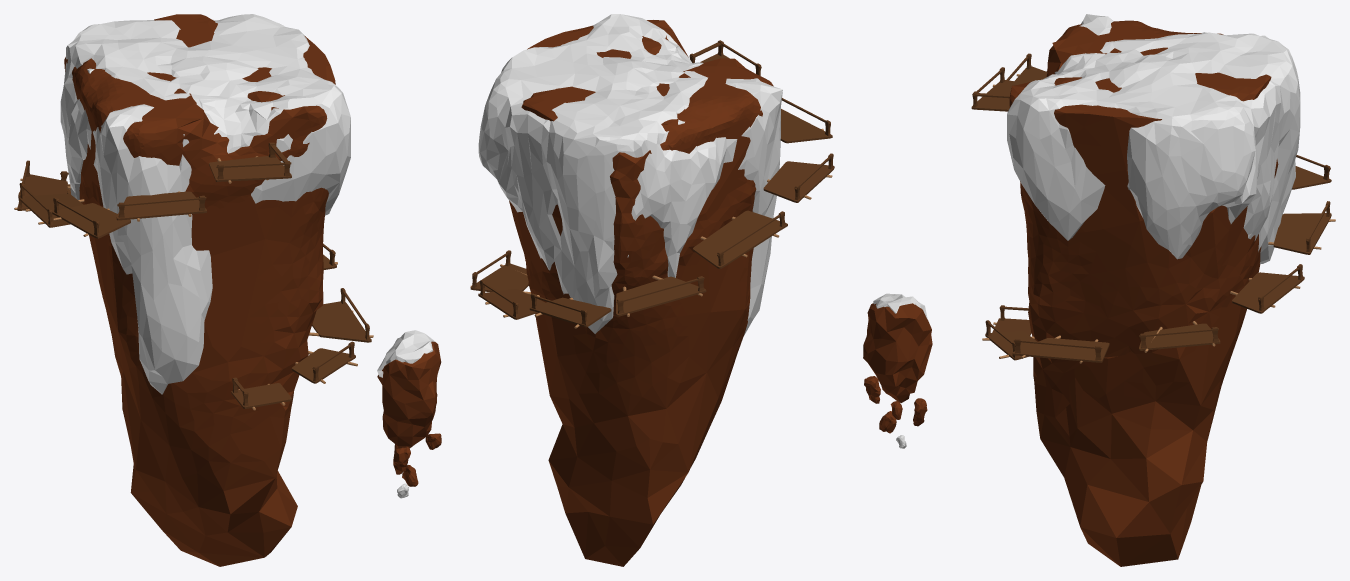
The model's file is Tre_Isola6.fbx.
The picture shows the model from 3 angles, left to right: view 1: azimuth 30°, elevation 25°; view 2: azimuth 150°, elevation 25°; view 3: azimuth 270°, elevation 25°; orthographic projection. The views are drawn at different scales.
Parts seen in each view (by area): view 1: Plane.008, Plane.019, Sphere.042, Plane.024, Plane.025, Plane.027, Plane.023, Plane.005, Sphere.043, Plane.014, Plane.004, Plane.013; view 2: Plane.008, Plane.019, Plane.014, Plane.013, Plane.023, Plane.011, Plane.006, Plane.024, Plane.010, Plane.025; view 3: Plane.008, Plane.019, Sphere.042, Plane.011, Plane.010, Plane.027, Plane.006, Plane.025, Plane.005, Plane.013, Plane.004.
Boxes of the visible parts, x1,y1,x2,y2 form: Plane.008: (64,14,335,566); Plane.019: (60,14,350,394); Sphere.042: (377,341,441,448); Plane.024: (116,191,206,220); Plane.025: (209,142,291,181); Plane.027: (312,288,371,342); Plane.023: (52,197,130,238); Plane.005: (291,341,355,383); Sphere.043: (377,330,434,377); Plane.014: (19,182,83,227); Plane.004: (231,377,291,408); Plane.013: (17,160,67,210); Plane.008: (509,20,773,566); Plane.019: (478,14,782,336); Plane.014: (693,210,787,268); Plane.013: (616,276,706,316); Plane.023: (763,153,834,202); Plane.011: (529,293,611,327); Plane.006: (470,250,528,291); Plane.024: (780,98,832,143); Plane.010: (478,280,545,319); Plane.025: (689,40,761,75); Plane.008: (1009,20,1278,566); Plane.019: (1007,14,1300,263); Sphere.042: (863,303,932,402); Plane.011: (1273,201,1331,254); Plane.010: (1232,264,1304,313); Plane.027: (1012,338,1109,362); Plane.006: (1139,323,1220,350); Plane.025: (971,67,1025,111); Plane.005: (985,320,1036,360); Plane.013: (1292,155,1331,189); Plane.004: (992,305,1031,335).
Size of the model in its own units: 136 by 219 by 191.
